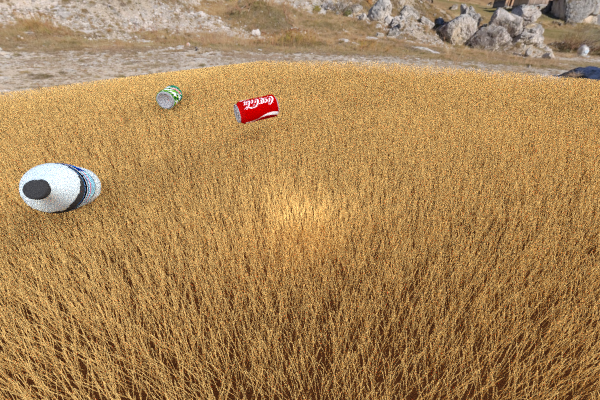Plastic Bottle: (18, 162, 100, 213), (233, 94, 279, 123), (155, 85, 182, 109)
